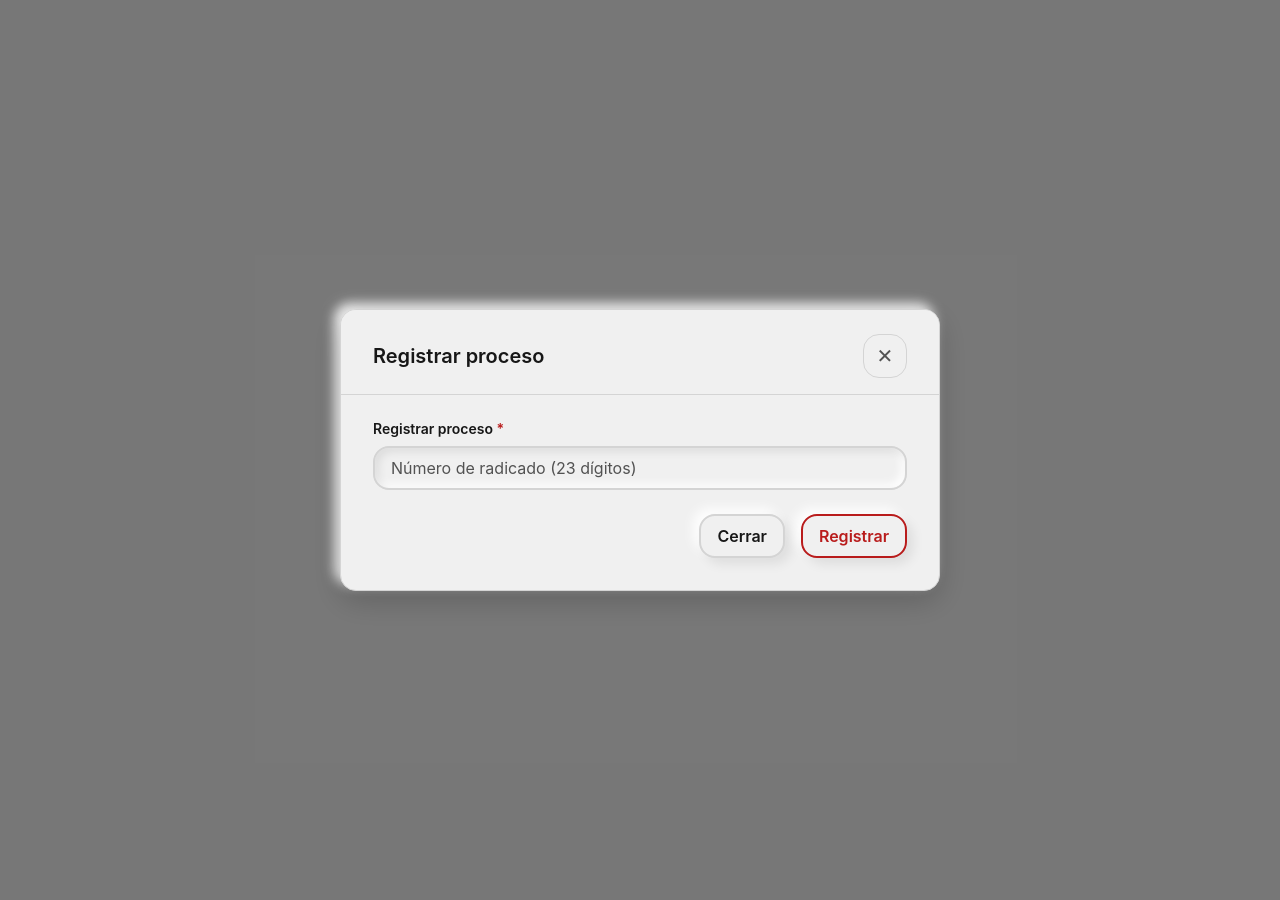
Scenario: ModalRegistro › muestra error de duplicado (409)
In the field: (640, 468) [373, 446, 907, 490], type "11001310300120230001200"
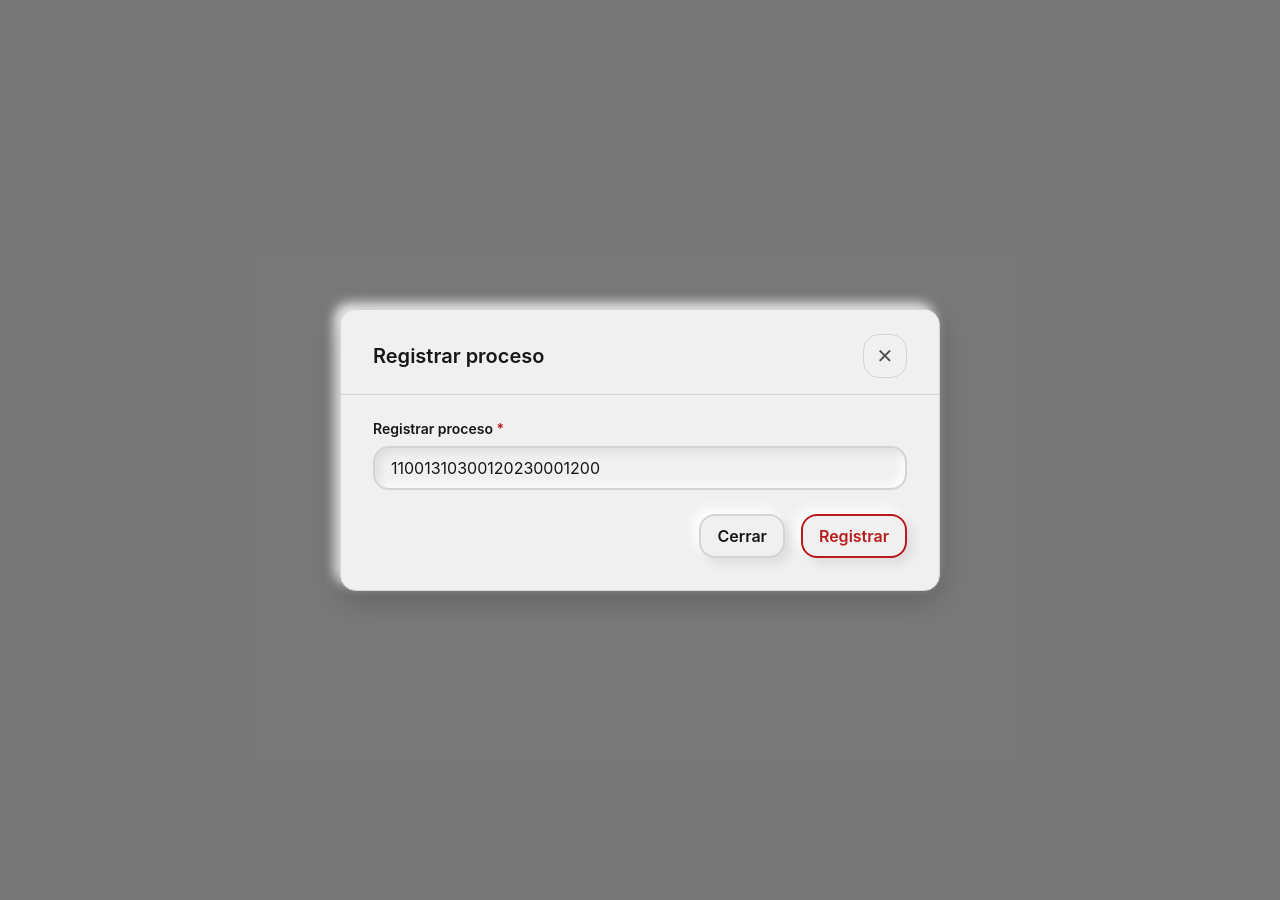
Submit the form, box [373, 419, 907, 558]
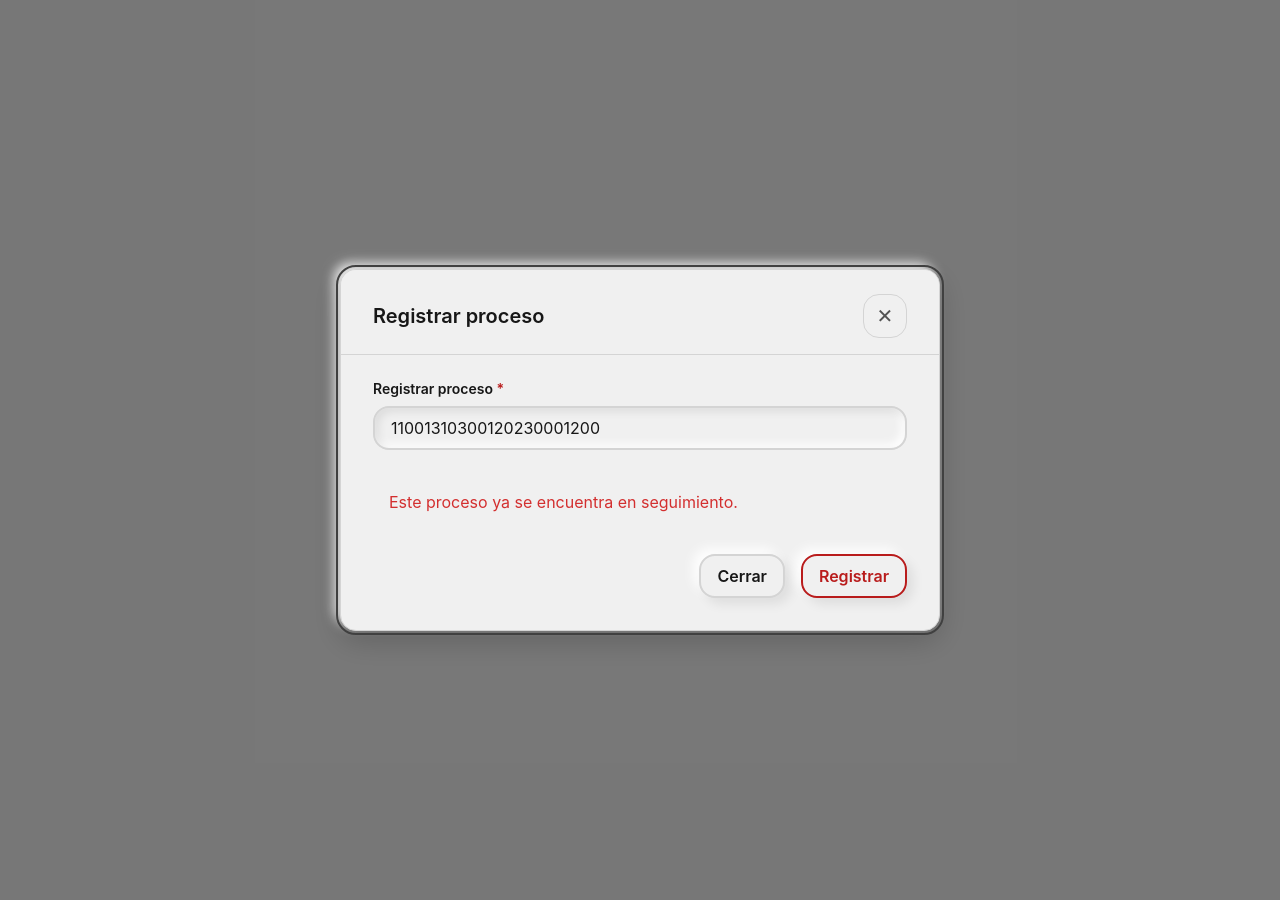
Result: the message shows "ya se encuentra en seguimiento" at [389, 492, 738, 512]
